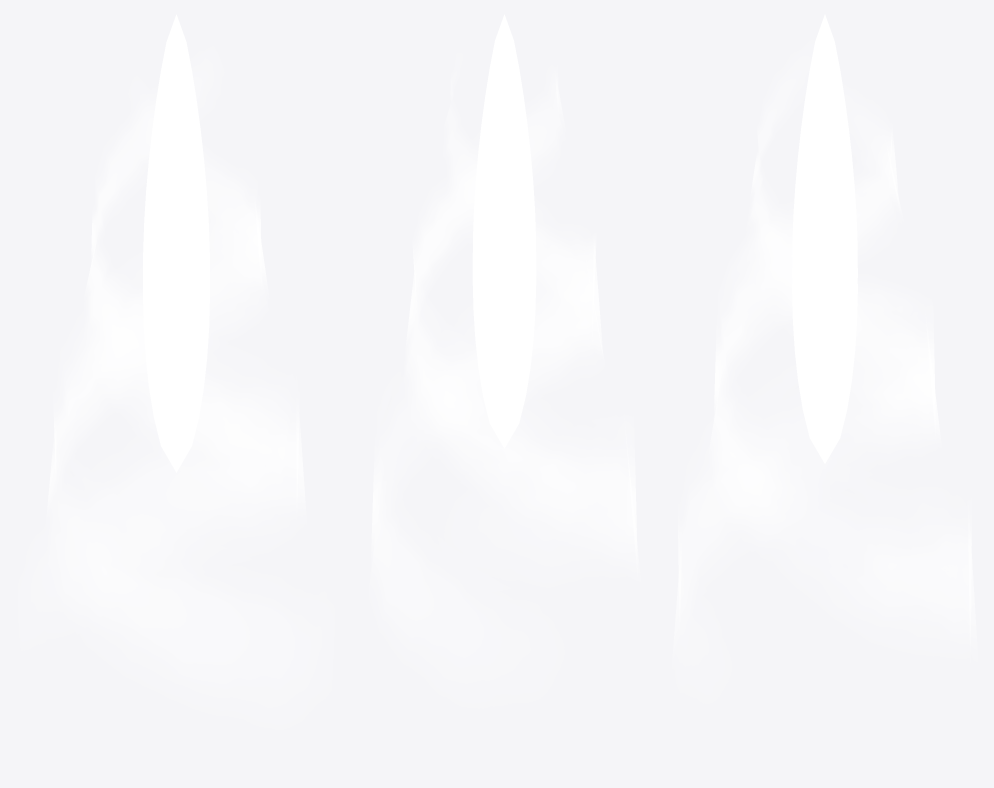
The model's file is elowen_attack_wisp.glb.
3 views of the same model, side by side, from view 1: azimuth 30°, elevation 25°; view 2: azimuth 150°, elevation 25°; view 3: azimuth 270°, elevation 25° (orthographic). The views are drawn at different scales.
Visible parts, largest first — view 1: Elowen_WispMist, Elowen_WispCore; view 2: Elowen_WispMist, Elowen_WispCore; view 3: Elowen_WispMist, Elowen_WispCore.
Boxes of the visible parts, bbox=[...] form: Elowen_WispMist: bbox=[31, 58, 321, 707]; Elowen_WispCore: bbox=[143, 14, 209, 472]; Elowen_WispMist: bbox=[370, 71, 639, 683]; Elowen_WispCore: bbox=[472, 14, 536, 448]; Elowen_WispMist: bbox=[673, 56, 976, 666]; Elowen_WispCore: bbox=[792, 14, 857, 463].
Size of what is drawn, in the model's own units: 0.1981 by 0.5108 by 0.1995.
2 materials, 2 textured.
